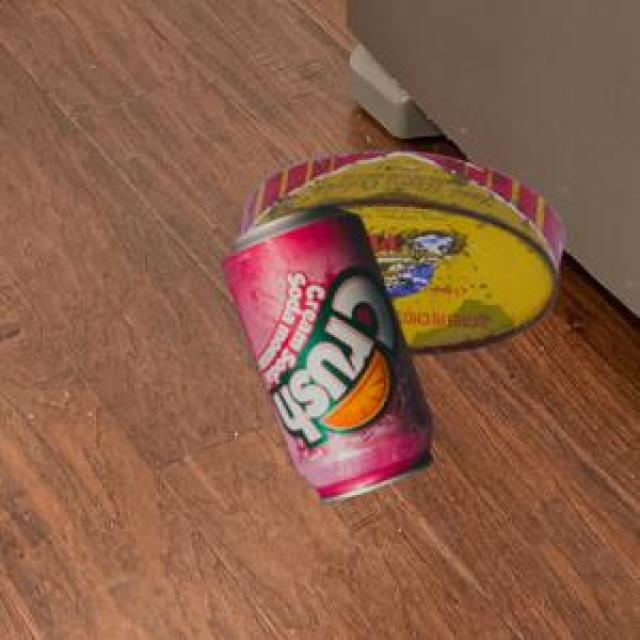logam: (239, 148, 560, 351), (221, 204, 430, 500)
